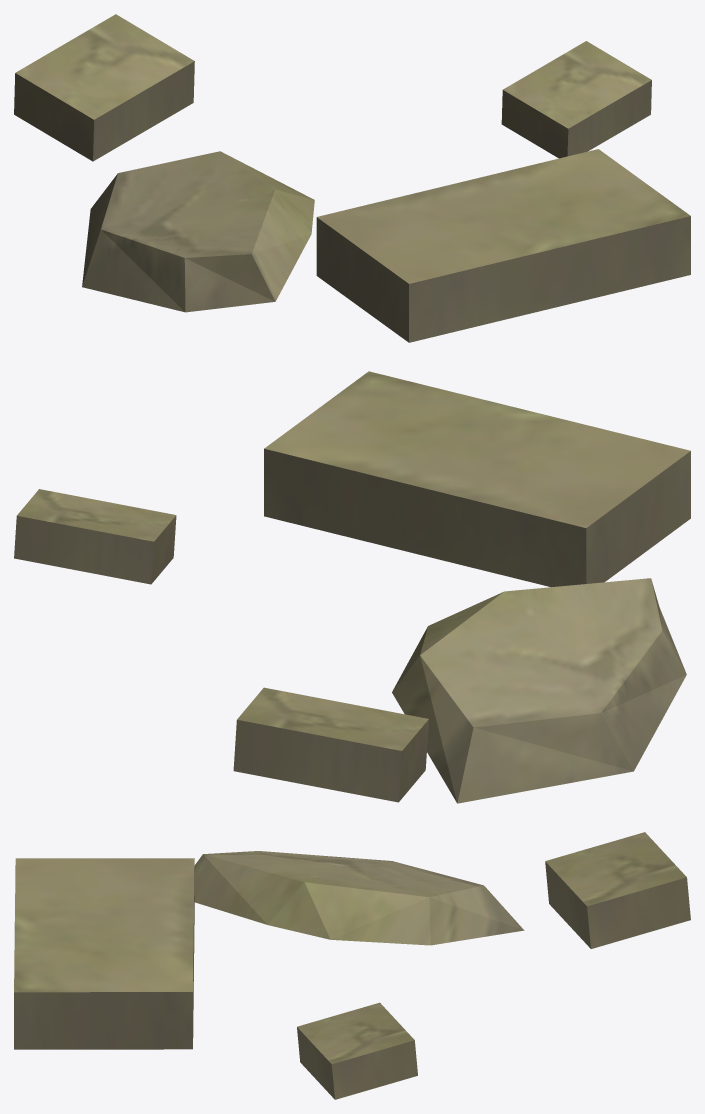
File: shitou_c.fbx
3 renders of one model, top to bottom at view 1: azimuth 30°, elevation 25°; view 2: azimuth 150°, elevation 25°; view 3: azimuth 270°, elevation 25°, orthographic. The views are drawn at different scales.
Visible parts, largest first — view 1: shitou_c; view 2: shitou_c; view 3: shitou_c.
Part boxes in pixels (x1,y1,x2,y2): shitou_c: (14, 14, 690, 342); shitou_c: (14, 371, 690, 803); shitou_c: (14, 832, 690, 1099).
Bounding box in the file's own units: 1.21 × 0.2394 × 1.34.
